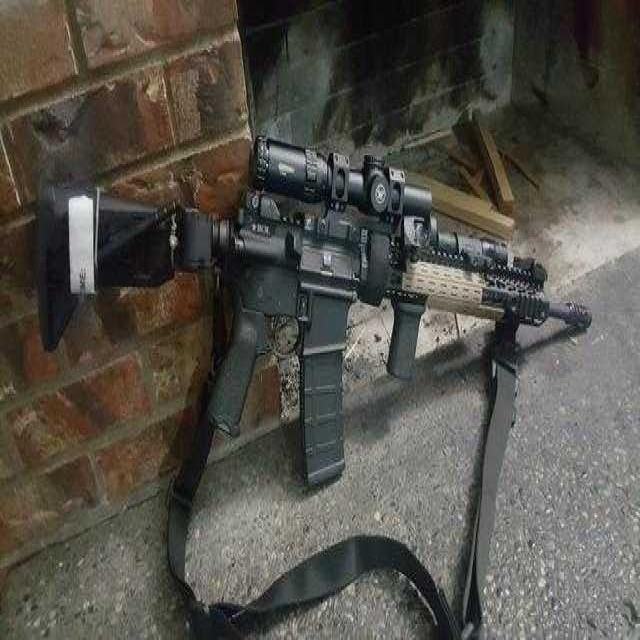weapon: (24, 100, 613, 528)
